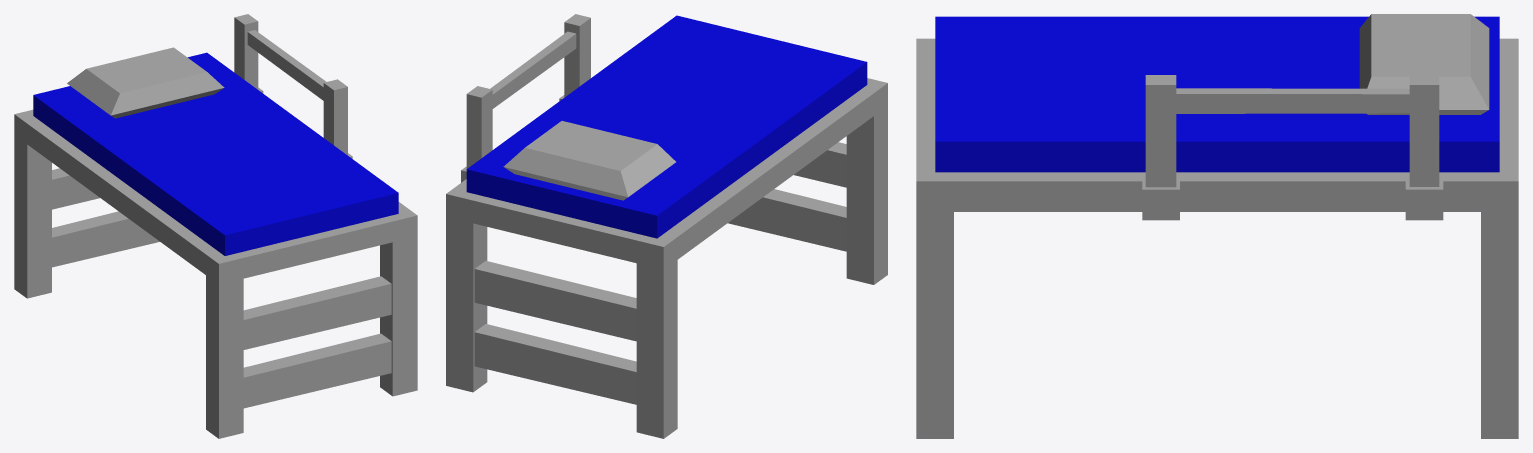
The model's file is model_bed.fbx.
3 views of the same model, side by side, from view 1: azimuth 30°, elevation 25°; view 2: azimuth 150°, elevation 25°; view 3: azimuth 270°, elevation 25° (orthographic). The views are drawn at different scales.
Visible parts, largest first — view 1: SM_Bed; view 2: SM_Bed; view 3: SM_Bed.
Boxes of the visible parts, x1=… form: SM_Bed: x1=14, y1=14, x2=417, y2=438; SM_Bed: x1=446, y1=14, x2=887, y2=438; SM_Bed: x1=916, y1=14, x2=1518, y2=438.
Bounding box in the file's own units: 4.98 × 5.53 × 8.38.
